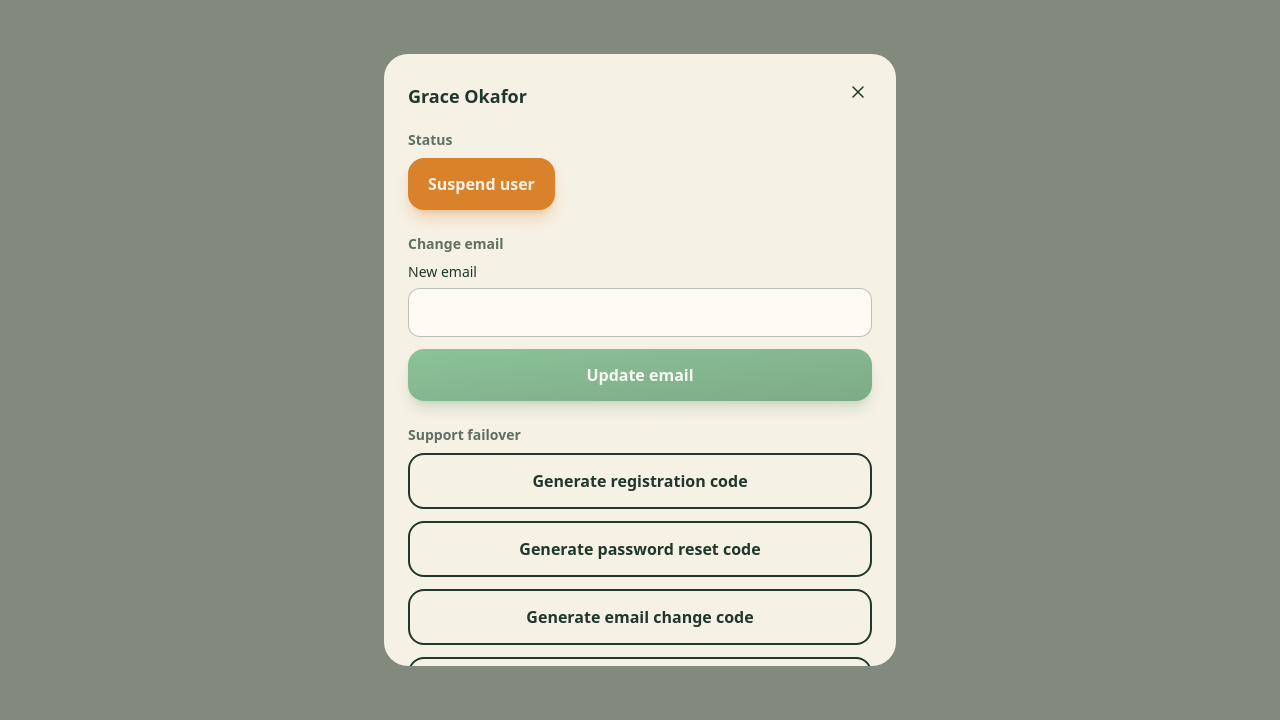
it: UserManageSheet › shows an error message when changing email fails
This screenshot has width=1280, height=720.
Step 1. Type "grace.new@example.com" into the field labelled "New email" → (640, 312), box 408,288 -> 872,336
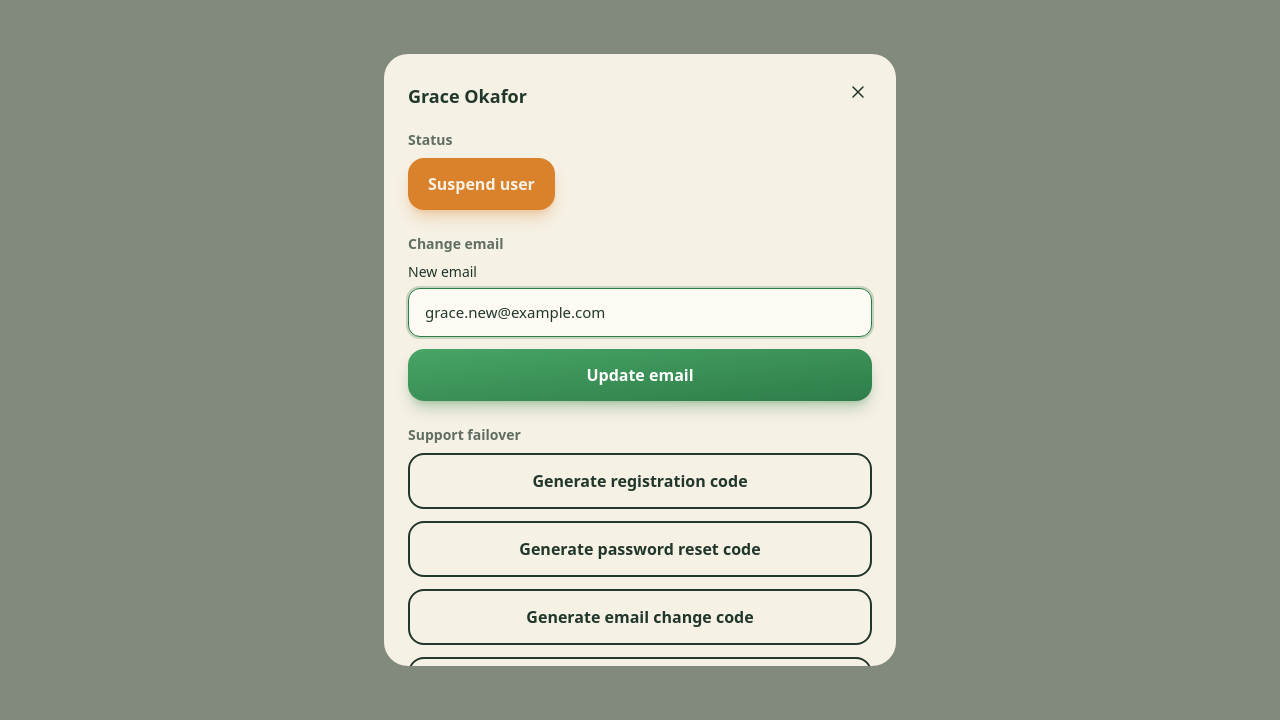
Step 2. Click the button "Update email" → (640, 374), box 408,348 -> 872,400
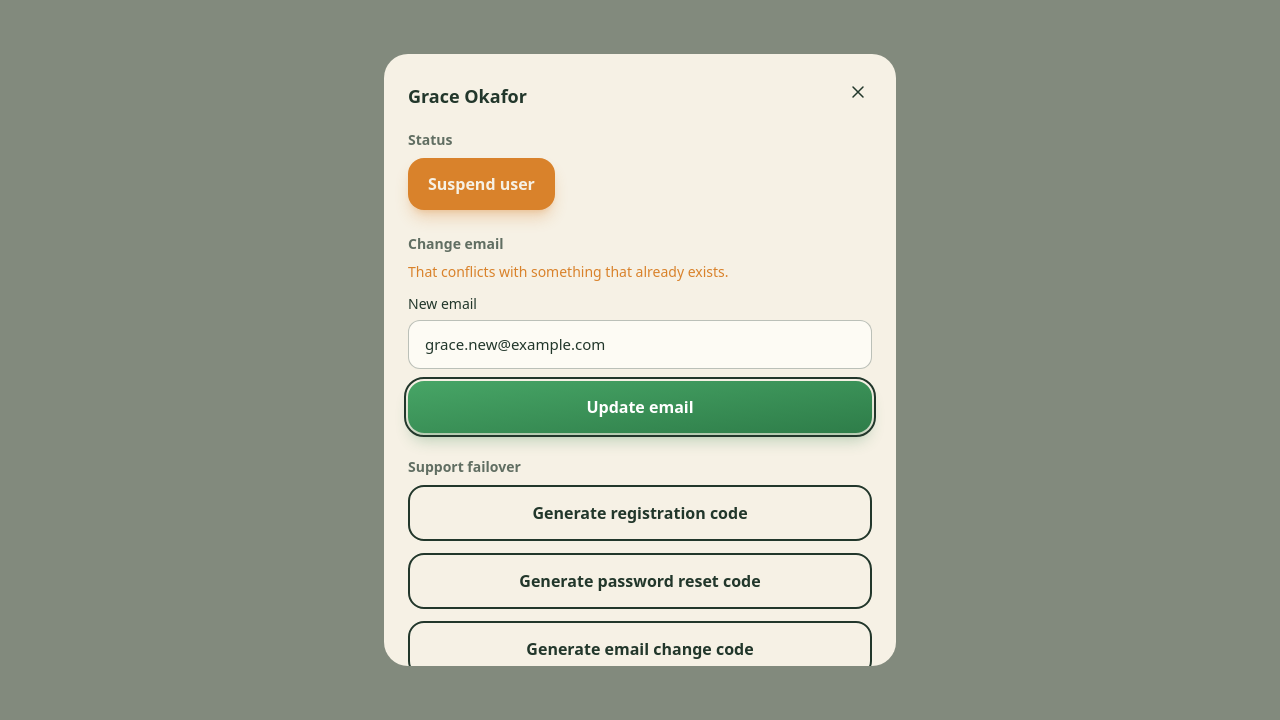
Check: the message reads "That conflicts with something that already exists.", box 408,262 -> 728,281
